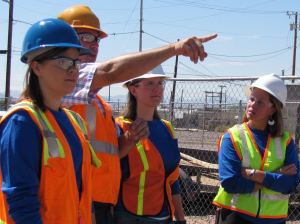Hard Hat: (18, 21, 88, 52), (54, 5, 109, 35), (251, 75, 289, 104), (126, 57, 173, 80)
High Viz: (13, 102, 92, 224), (116, 116, 177, 212), (231, 122, 289, 218), (87, 96, 119, 201)
